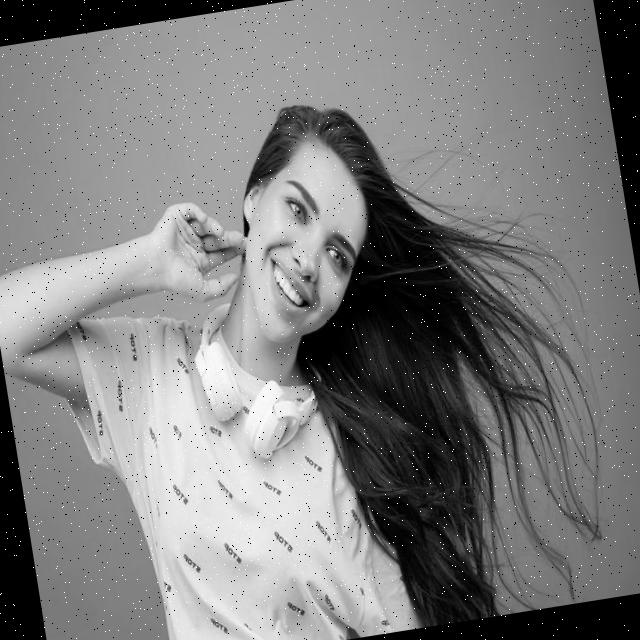Happiness: (227, 136, 386, 350)
